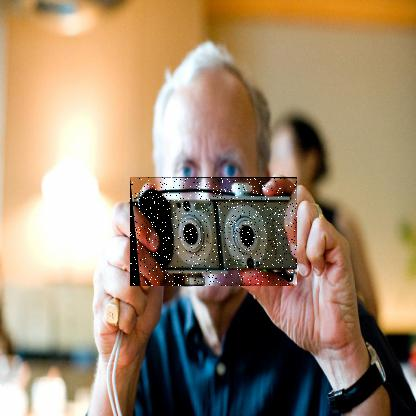Camera: (131, 178, 299, 288)
